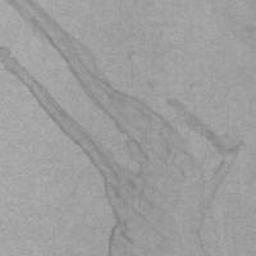Water spot: (0, 0, 247, 256)
